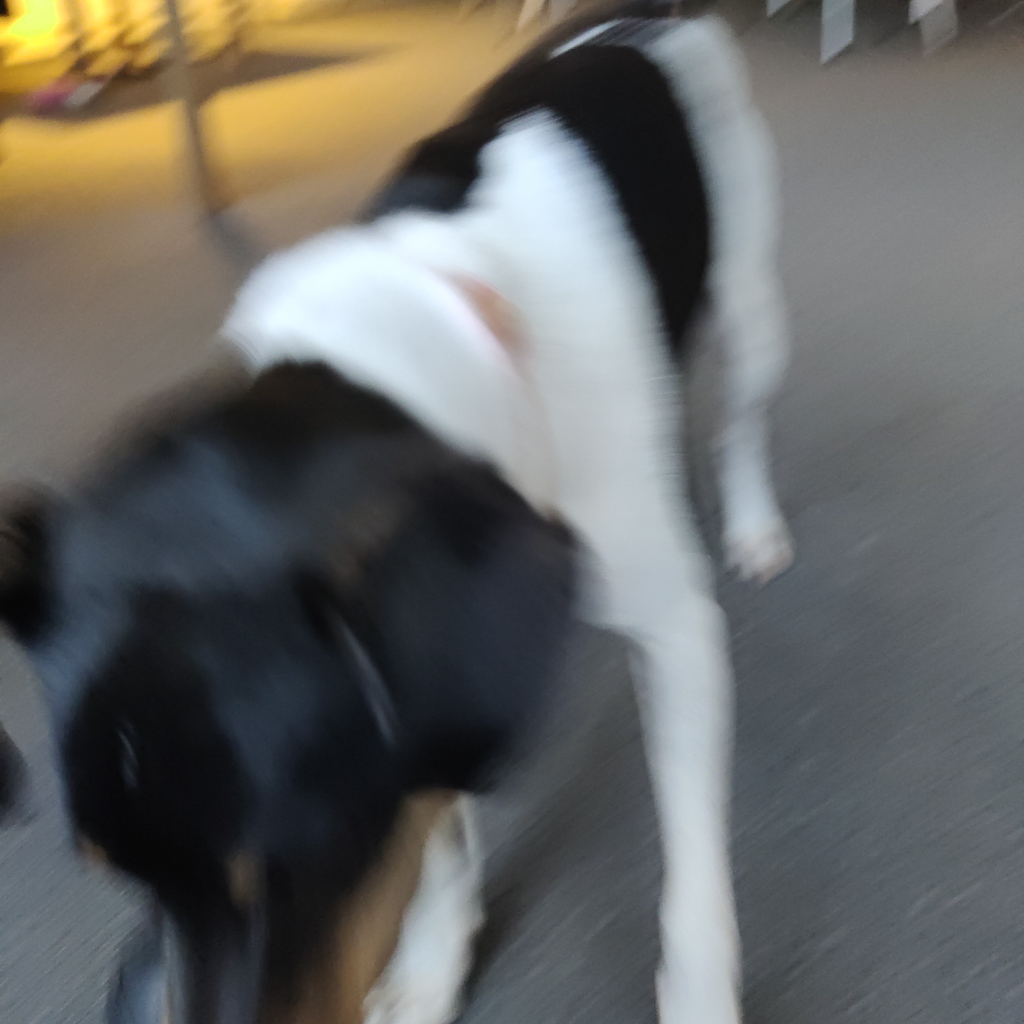Dog: (0, 0, 824, 1024)
